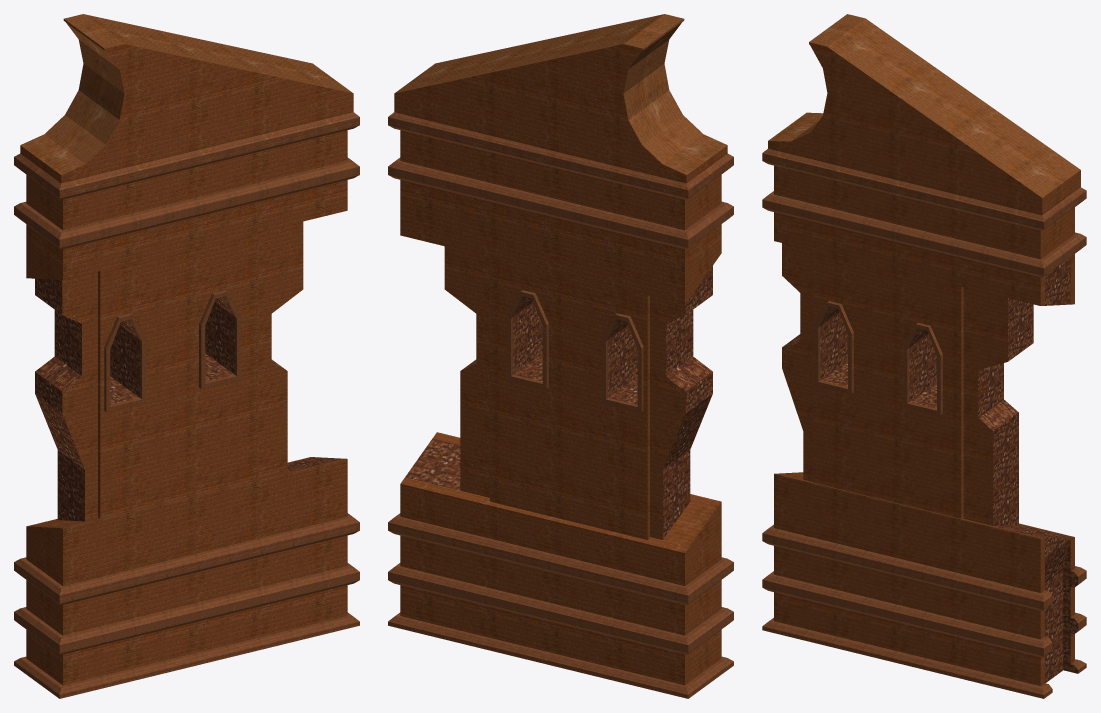
Rendered from ForgottenBase_3_Front.fbx.
The picture shows the model from 3 angles, left to right: view 1: azimuth 30°, elevation 25°; view 2: azimuth 150°, elevation 25°; view 3: azimuth 330°, elevation 25°; orthographic projection. The views are drawn at different scales.
Parts seen in each view (by area): view 1: Object; view 2: Object; view 3: Object.
Boxes of the visible parts, left/top/right/bottom form: Object: left=14, top=14, right=359, bottom=698; Object: left=388, top=14, right=733, bottom=698; Object: left=762, top=14, right=1086, bottom=698.
Bounding box in the file's own units: 7600 × 15400 × 2000.
